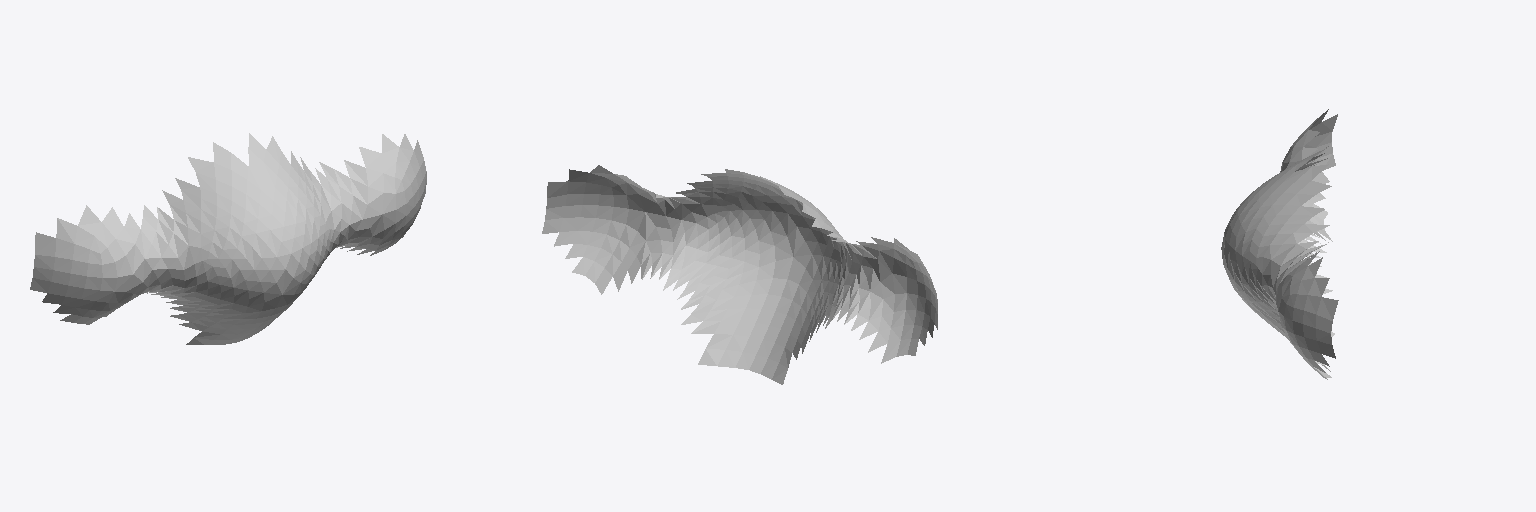
Rendered from blob2_opt_final3_opt.obj.
3 renders of one model, left to right at view 1: azimuth 30°, elevation 25°; view 2: azimuth 150°, elevation 25°; view 3: azimuth 270°, elevation 25°, orthographic.
Parts seen in each view (by area): view 1: [local-path]\Google_Drive\PS_structures\source\samples/blob2_opt; view 2: [local-path]\Google_Drive\PS_structures\source\samples/blob2_opt; view 3: [local-path]\Google_Drive\PS_structures\source\samples/blob2_opt.
Part boxes in pixels (x1,y1,x2,y2): [local-path]\Google_Drive\PS_structures\source\samples/blob2_opt: (30,133,426,344); [local-path]\Google_Drive\PS_structures\source\samples/blob2_opt: (542,165,937,384); [local-path]\Google_Drive\PS_structures\source\samples/blob2_opt: (1221,109,1338,379).
Size of the model in its own units: 39.78 by 19.32 by 10.21.